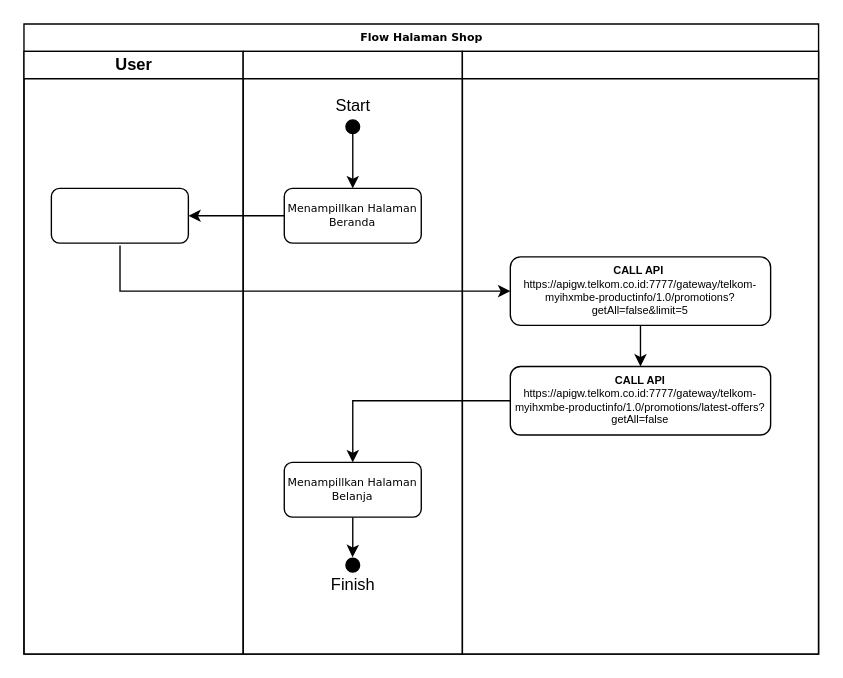
Some shapes in this 843 by 678 pixel diagram are drawn without their labels. The box of each missing label's shape, as (x1, y1, x2, y2) in pixels:
Aplikasi: (242, 50, 462, 654)
Server: (461, 50, 819, 654)
User Memilih Menu Belanja: (50, 187, 188, 243)
